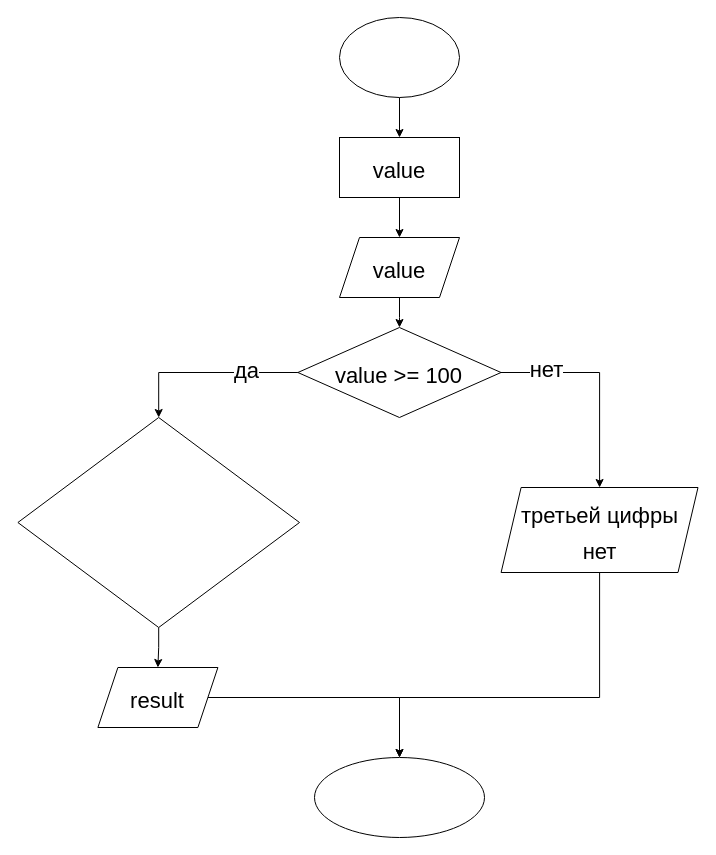
The diagram is 716 pixels wide and 855 high, and some of its shapes have lost their labels. The centre of each missing label's shape, as x and y in pixels:
Finish: (x=399, y=797)
Start: (x=399, y=57)
value > 999 value = value / 10 c = value % 10 result = c: (x=158, y=522)
